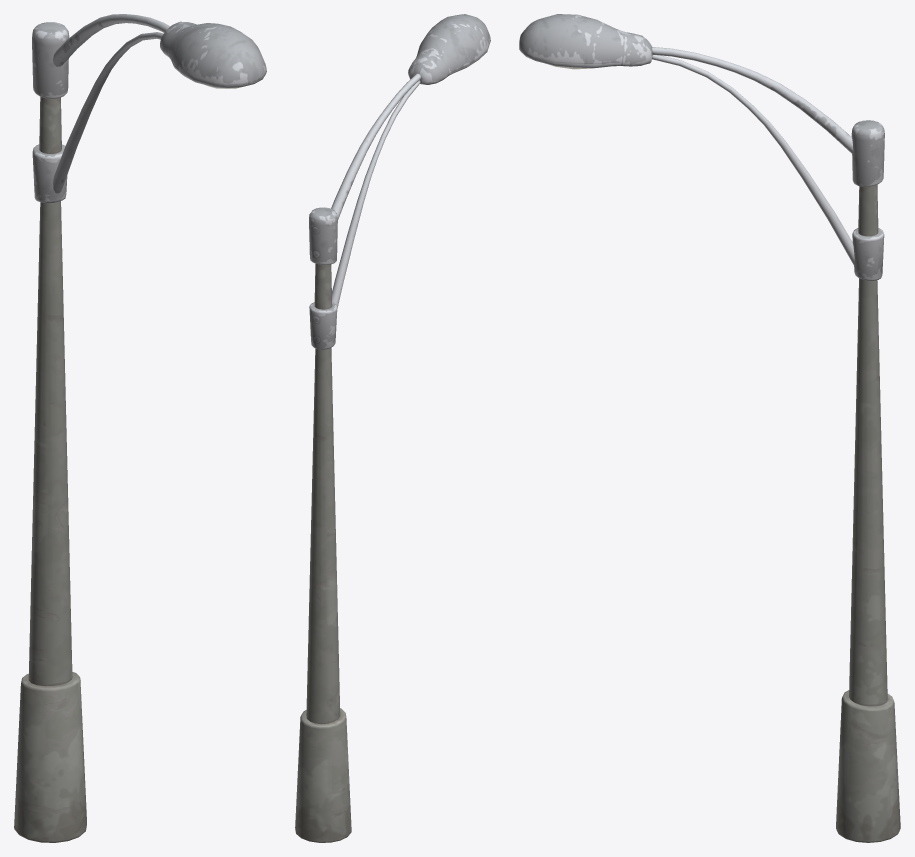
The model's file is StreetLamp03_1.FBX.
3 renders of one model, left to right at view 1: azimuth 30°, elevation 25°; view 2: azimuth 150°, elevation 25°; view 3: azimuth 270°, elevation 25°, orthographic. The views are drawn at different scales.
Visible parts, largest first — view 1: StreetLamp03_1; view 2: StreetLamp03_1; view 3: StreetLamp03_1.
Boxes of the visible parts, <box> form: StreetLamp03_1: <box>14,14,266,842</box>; StreetLamp03_1: <box>295,14,490,842</box>; StreetLamp03_1: <box>519,14,900,842</box>.
Size of what is drawn, in the model's own units: 0.391 by 4.92 by 2.09.
